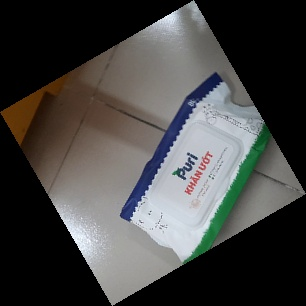Puri Trang: (120, 70, 275, 271)
